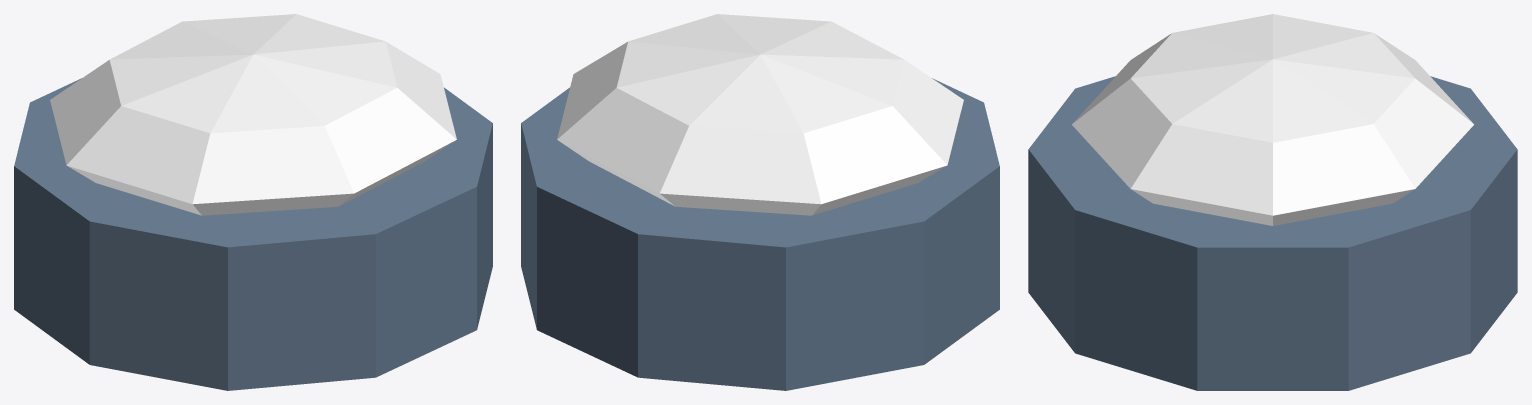
The model's file is Item_Surimi_v001.fbx.
3 renders of one model, left to right at view 1: azimuth 30°, elevation 25°; view 2: azimuth 150°, elevation 25°; view 3: azimuth 270°, elevation 25°, orthographic.
Visible parts, largest first — view 1: Bowl, Surimi; view 2: Bowl, Surimi; view 3: Bowl, Surimi.
Part boxes in pixels (x1,y1,x2,y2): Bowl: [14, 78, 492, 390]; Surimi: [50, 14, 456, 215]; Bowl: [521, 78, 999, 390]; Surimi: [557, 14, 963, 215]; Bowl: [1028, 76, 1517, 390]; Surimi: [1072, 14, 1473, 225].
Size of the model in its own units: 16.17 by 8.95 by 17.
